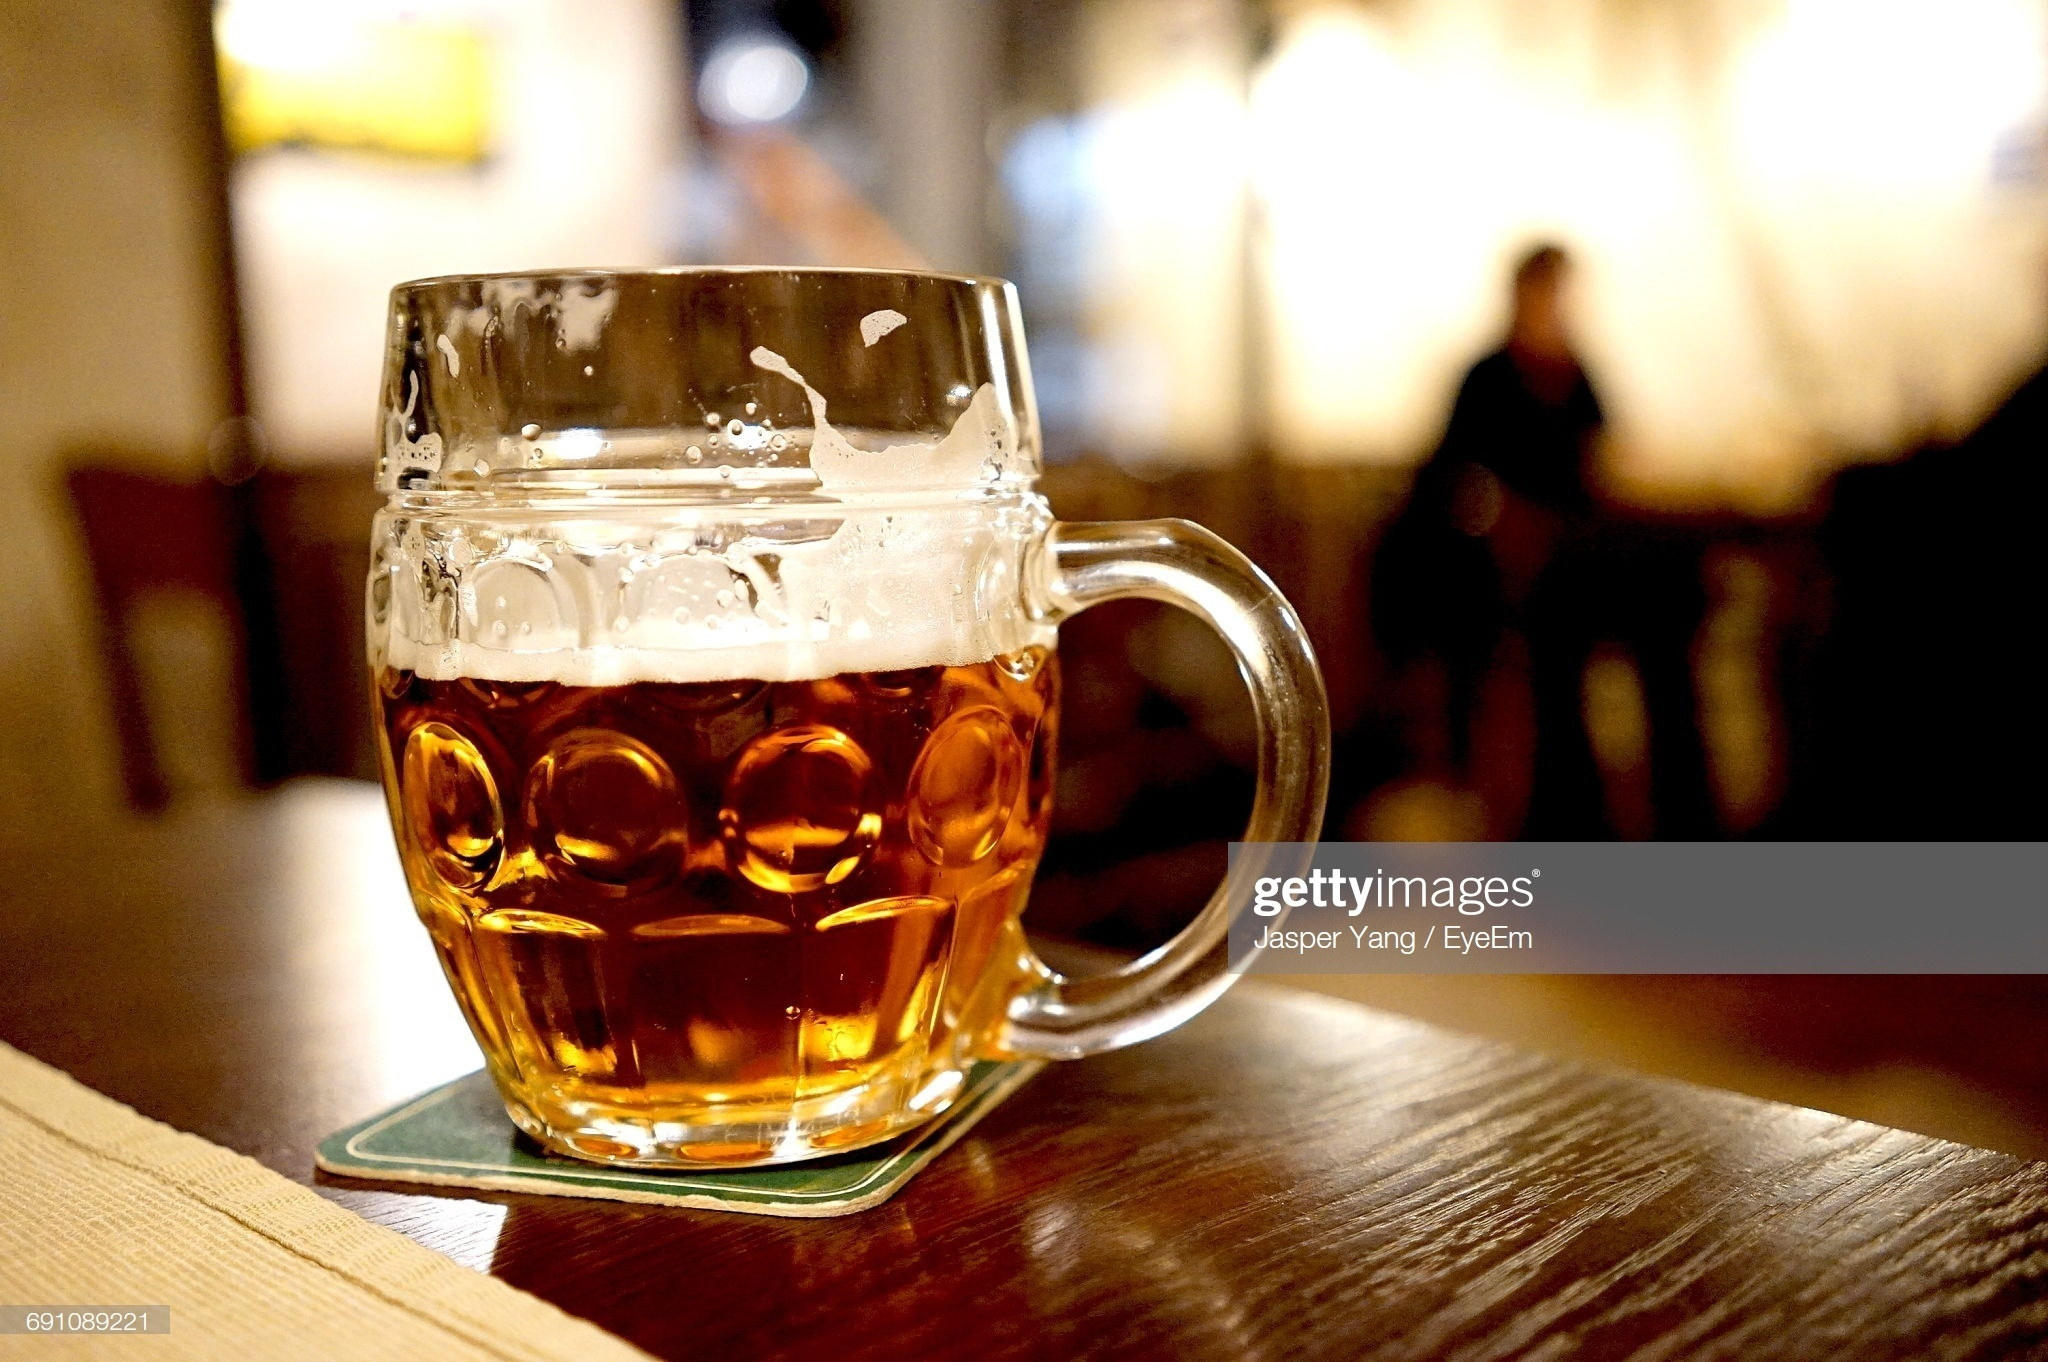whiskey: (351, 269, 1029, 1169)
